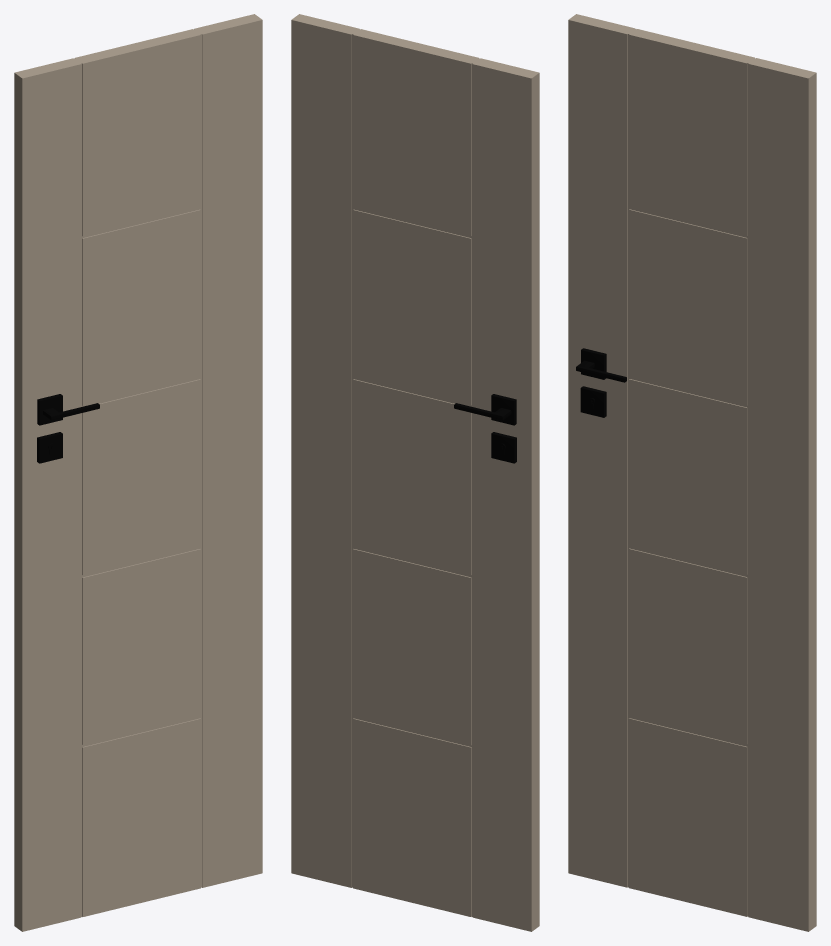
Rendered from RP_1_half_door.glb.
The picture shows the model from 3 angles, left to right: view 1: azimuth 30°, elevation 25°; view 2: azimuth 150°, elevation 25°; view 3: azimuth 330°, elevation 25°; orthographic projection.
Visible parts, largest first — view 1: SC_1__half_90_door__DT_32_1; view 2: SC_1__half_90_door__DT_32_1; view 3: SC_1__half_90_door__DT_32_1.
Boxes of the visible parts, x1,y1,x2,y2 form: SC_1__half_90_door__DT_32_1: [14, 14, 262, 931]; SC_1__half_90_door__DT_32_1: [291, 14, 539, 931]; SC_1__half_90_door__DT_32_1: [568, 14, 816, 931].
Size of the model in its own units: 0.5169 by 1.75 by 0.1089.
1 material, 1 textured.
